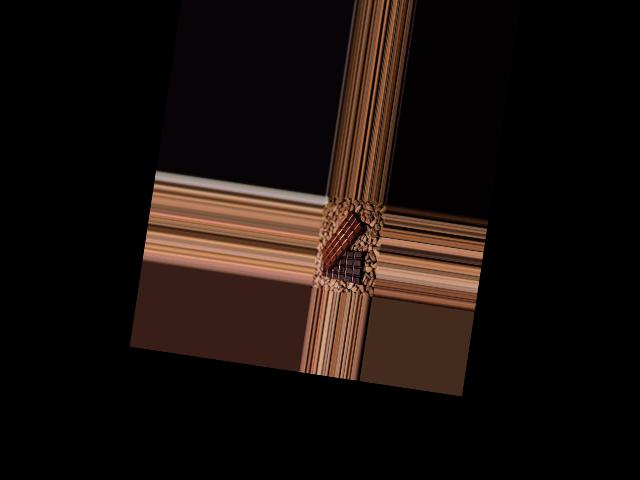chocolate: (318, 245, 368, 289)
